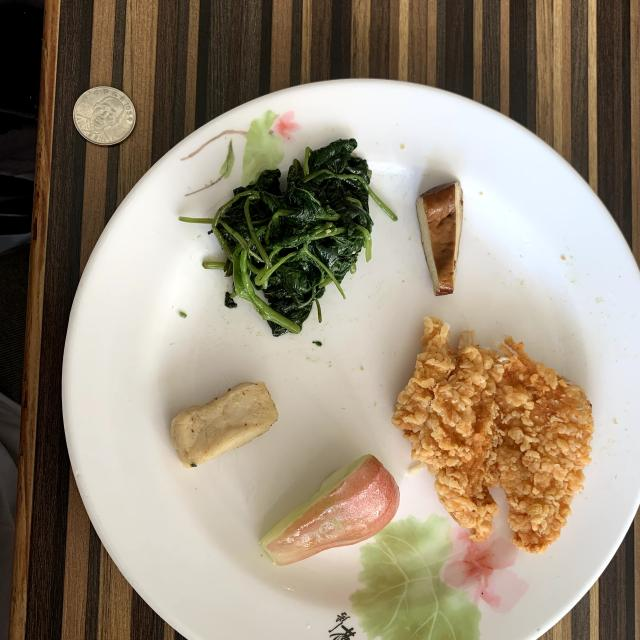coin: (74, 86, 135, 145)
creamy tofu -without sauce-: (170, 382, 278, 468)
firm tofu: (416, 181, 462, 295)
fried chicken cutlet: (392, 318, 592, 552)
sweet potato leaves: (180, 139, 396, 335)
